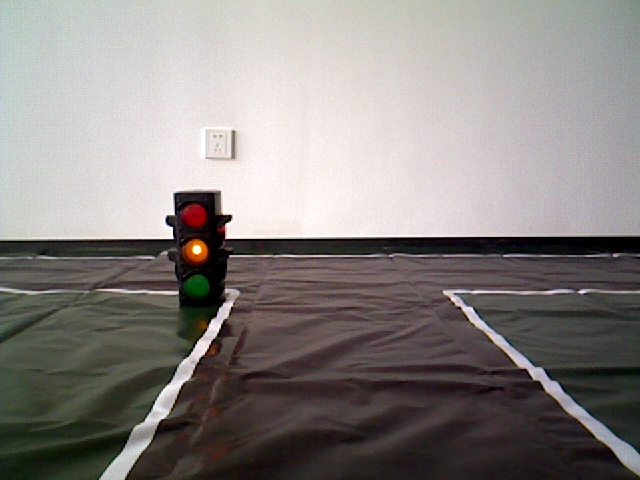yellow: (174, 189, 224, 305)
